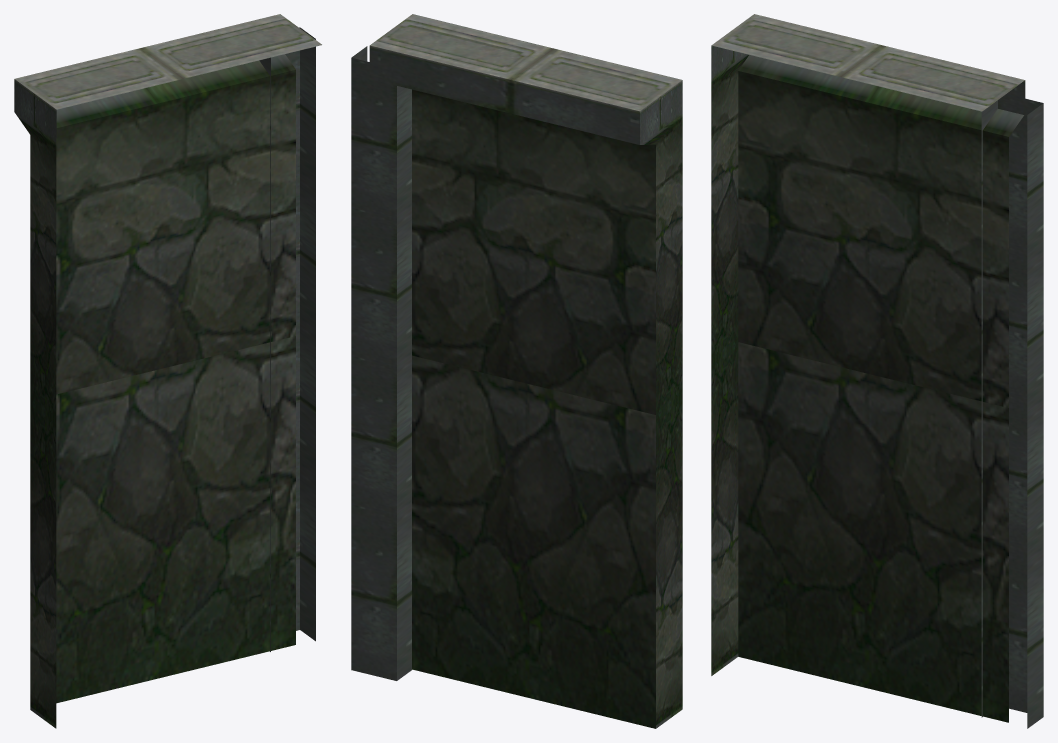
File: zc_suzhou_fengbian01.FBX
The picture shows the model from 3 angles, left to right: view 1: azimuth 30°, elevation 25°; view 2: azimuth 150°, elevation 25°; view 3: azimuth 330°, elevation 25°; orthographic projection.
Parts seen in each view (by area): view 1: zc_suzhou_fengbian01; view 2: zc_suzhou_fengbian01; view 3: zc_suzhou_fengbian01.
Boxes of the visible parts, x1,y1,x2,y2 form: zc_suzhou_fengbian01: [14, 14, 321, 728]; zc_suzhou_fengbian01: [351, 14, 682, 728]; zc_suzhou_fengbian01: [711, 14, 1043, 728].
Bounding box in the file's own units: 237 × 492 × 60.91.
Materials: 1 (1 with a texture image).
